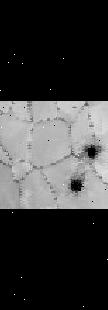good_void: (66, 171, 86, 198), (81, 145, 101, 162)
